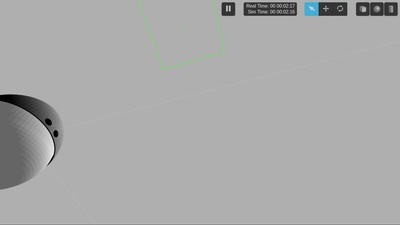mira_robot: (2, 93, 65, 190)
